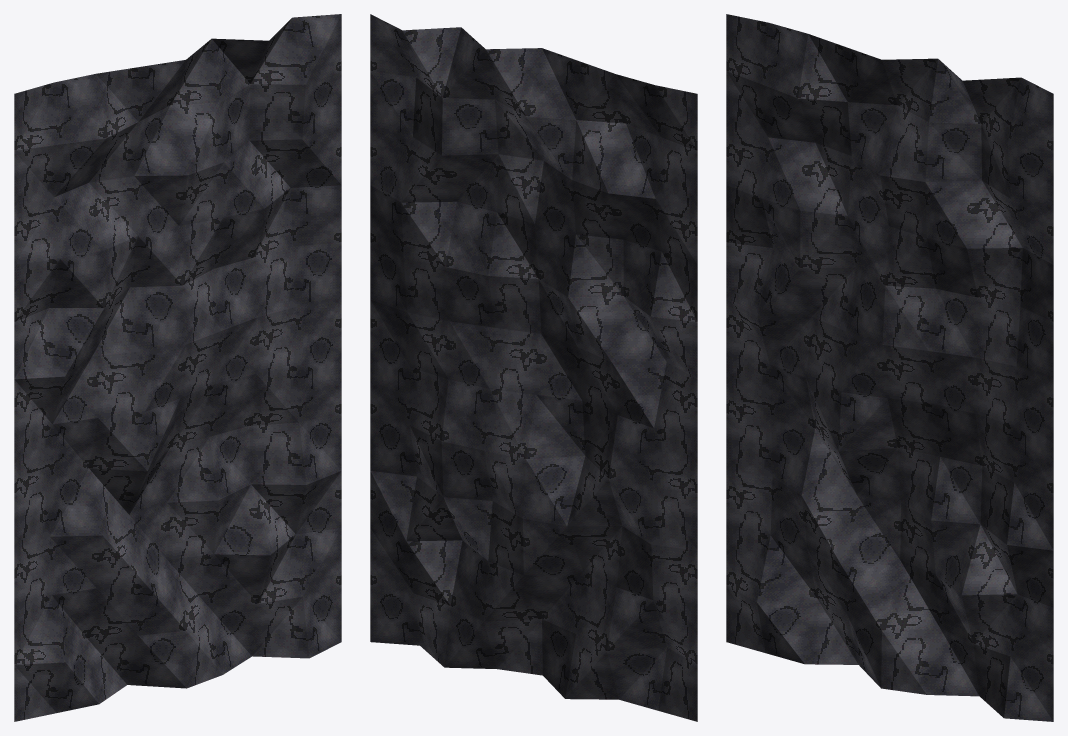
Rendered from roca_pared.obj.
The picture shows the model from 3 angles, left to right: view 1: azimuth 30°, elevation 25°; view 2: azimuth 150°, elevation 25°; view 3: azimuth 330°, elevation 25°; orthographic projection.
Parts seen in each view (by area): view 1: roca_pared; view 2: roca_pared; view 3: roca_pared.
Part boxes in pixels (bbox=[...]): roca_pared: bbox=[14, 14, 341, 721]; roca_pared: bbox=[370, 14, 697, 721]; roca_pared: bbox=[726, 14, 1053, 721].
Size of the model in its own units: 24 by 44 by 2.73.
Materials: 1 (1 with a texture image).
